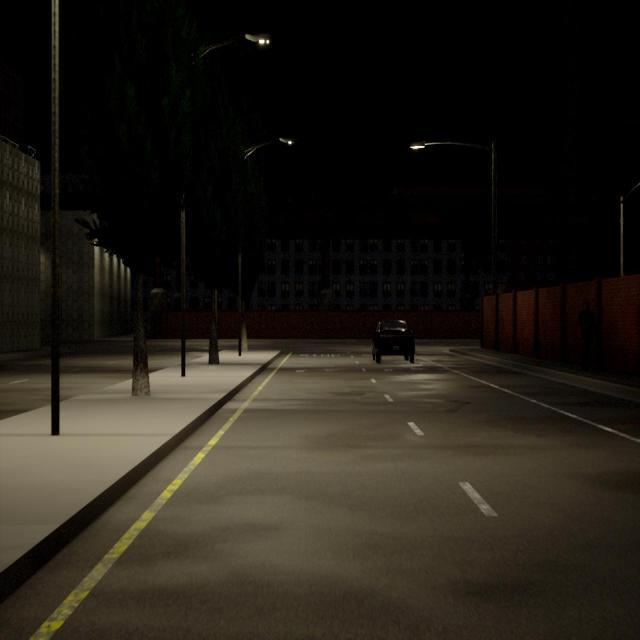Pedestrian: (577, 301, 594, 370)
Vehicle: (372, 320, 414, 363)
